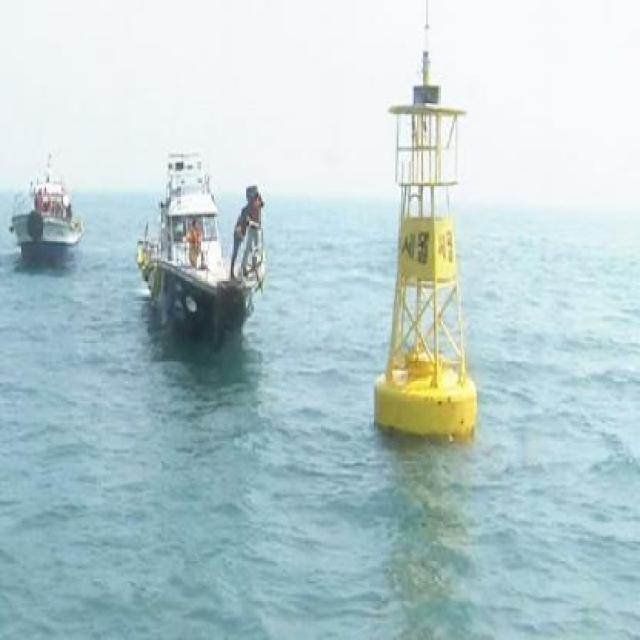a: (363, 1, 490, 449)
